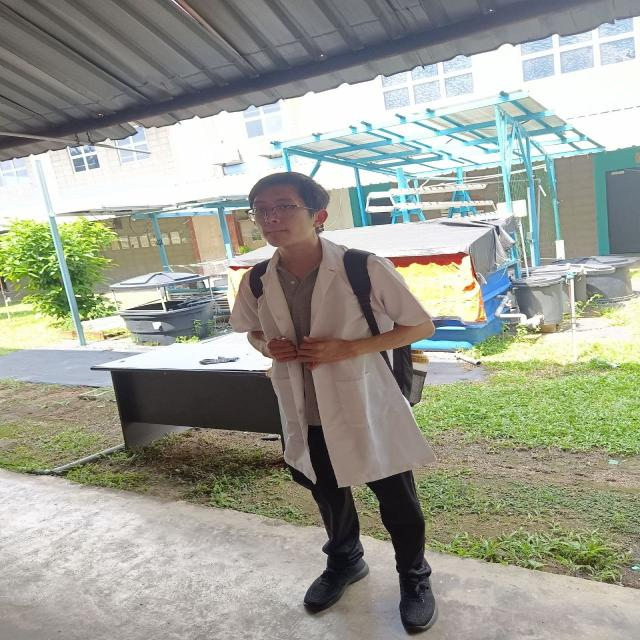person_with_labcoat: (231, 172, 436, 631)
